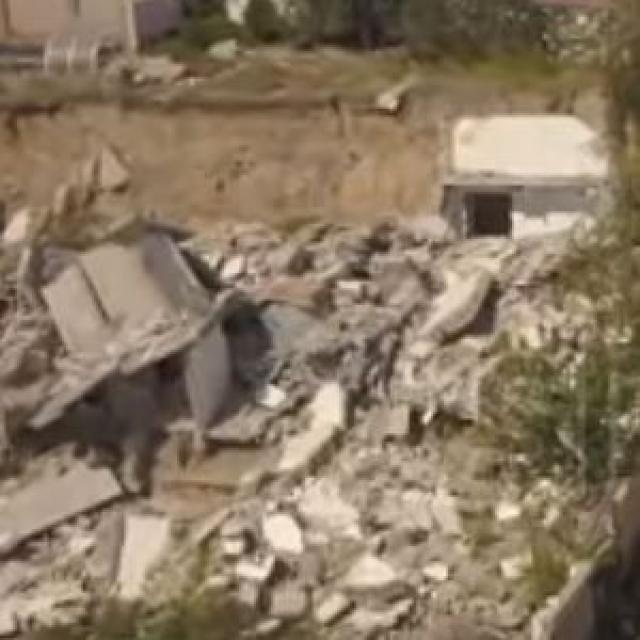collapsed_building: (19, 230, 593, 638)
